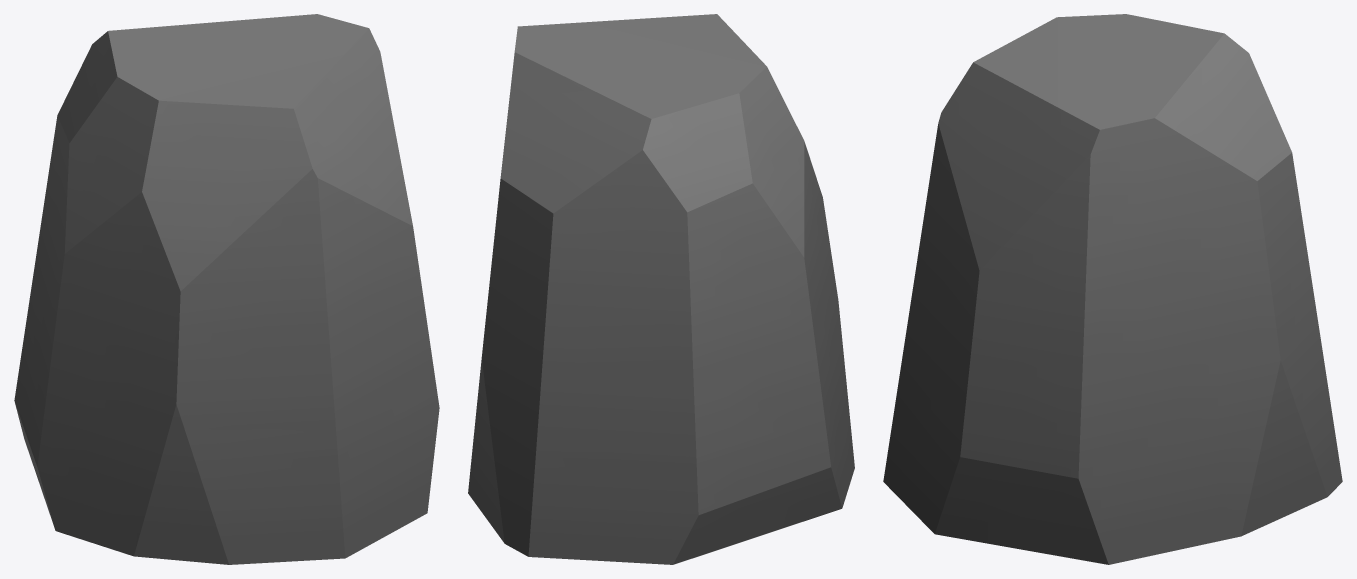
Rendered from SmallRock_06.fbx.
3 renders of one model, left to right at view 1: azimuth 30°, elevation 25°; view 2: azimuth 150°, elevation 25°; view 3: azimuth 270°, elevation 25°, orthographic.
Visible parts, largest first — view 1: small_rock_01; view 2: small_rock_01; view 3: small_rock_01.
Part boxes in pixels (x1,y1,x2,y2): small_rock_01: (14, 14, 439, 564); small_rock_01: (468, 14, 854, 564); small_rock_01: (883, 14, 1342, 564).
Bounding box in the file's own units: 184 × 200 × 200.
1 material, 1 textured.
